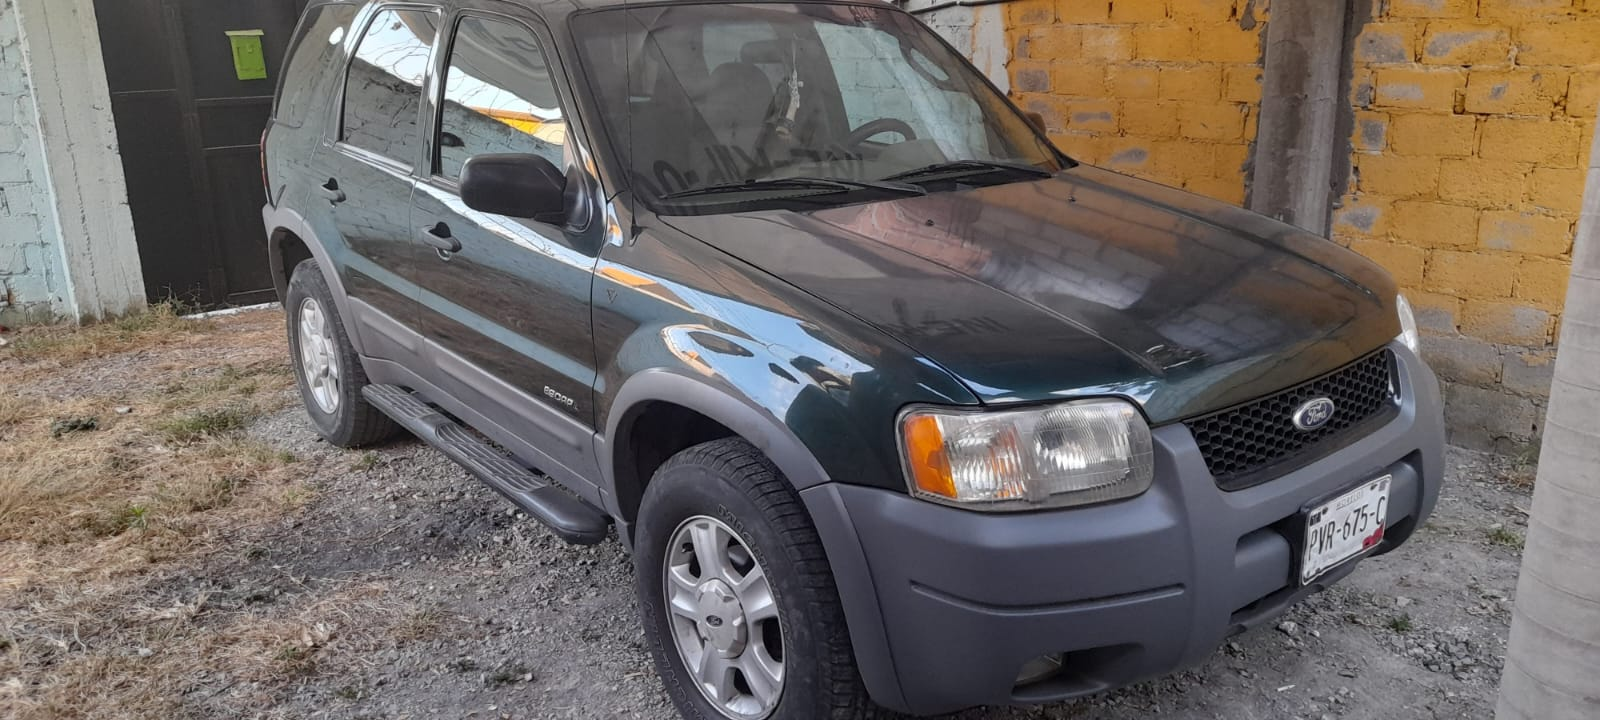Auto: (238, 2, 1451, 718)
